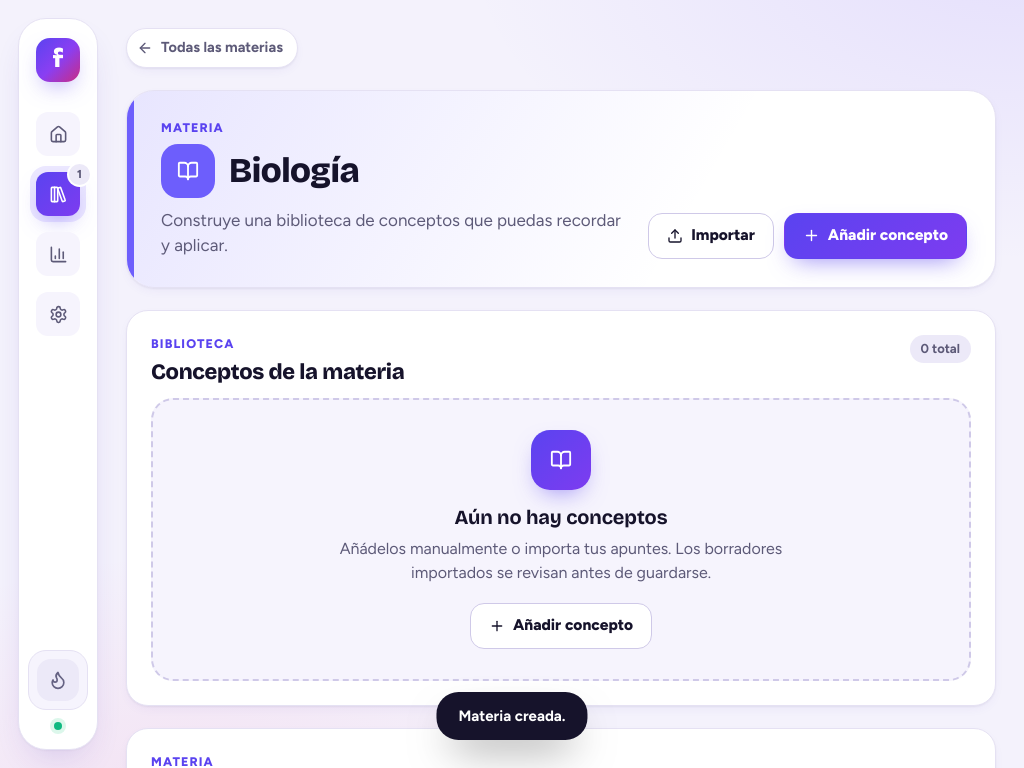
conceptos repetidos › al importar señala los borradores que ya existen y permite desmarcarlos de una vez
Earlier steps of the test are not shown.
Click the button "Importar" at (711, 236), box [648, 213, 774, 259]
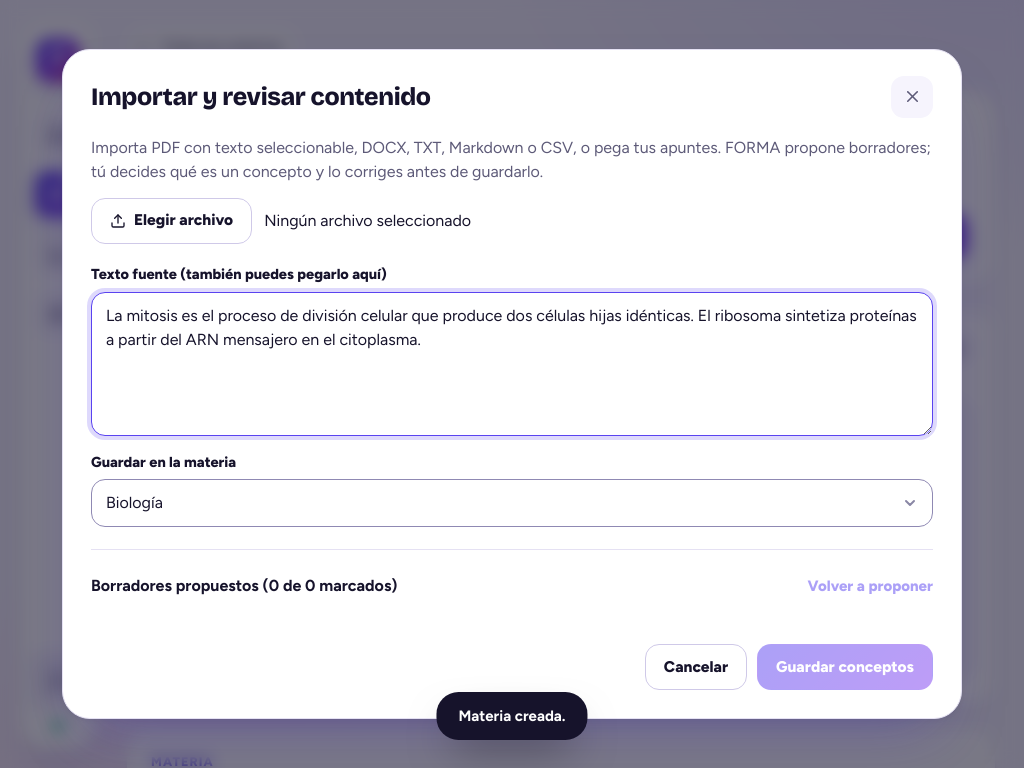
Replace the text in the text box with id "import-text" with "La mitosis es el proceso de división celular que produce dos células hijas idénticas. El ribosoma sintetiza proteínas a partir del ARN mensajero en el citoplasma." at (512, 364), box [91, 292, 933, 436]
(page scrolled)
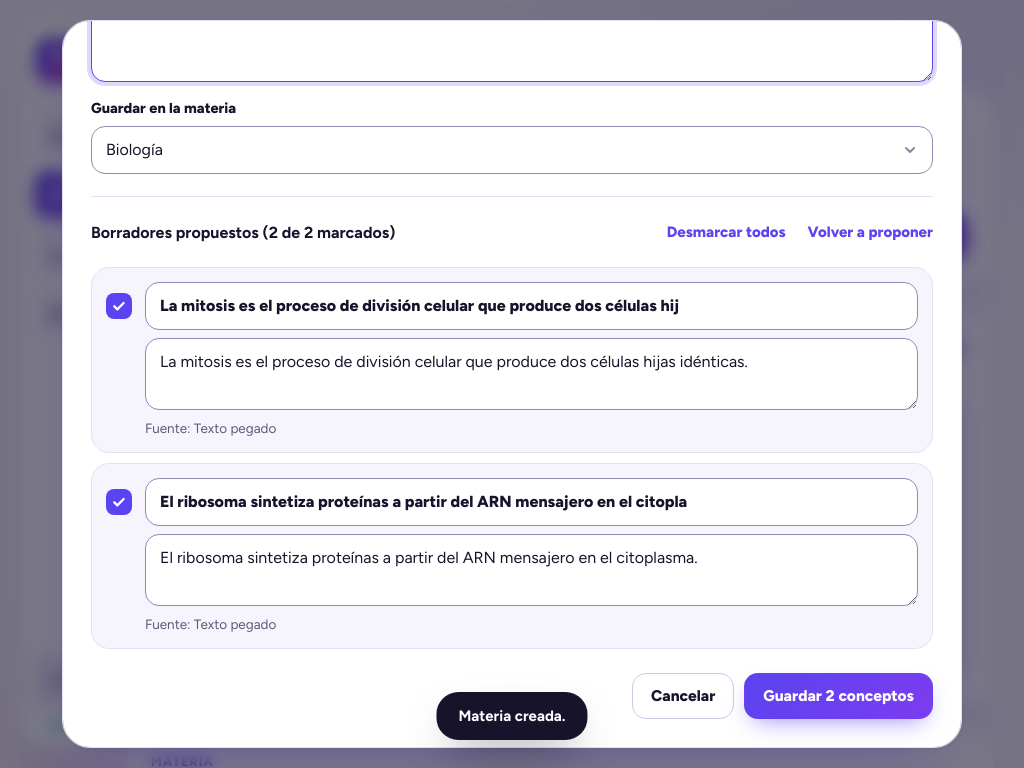
Click the button "Guardar 2 conceptos" at (839, 696), box [744, 673, 933, 719]
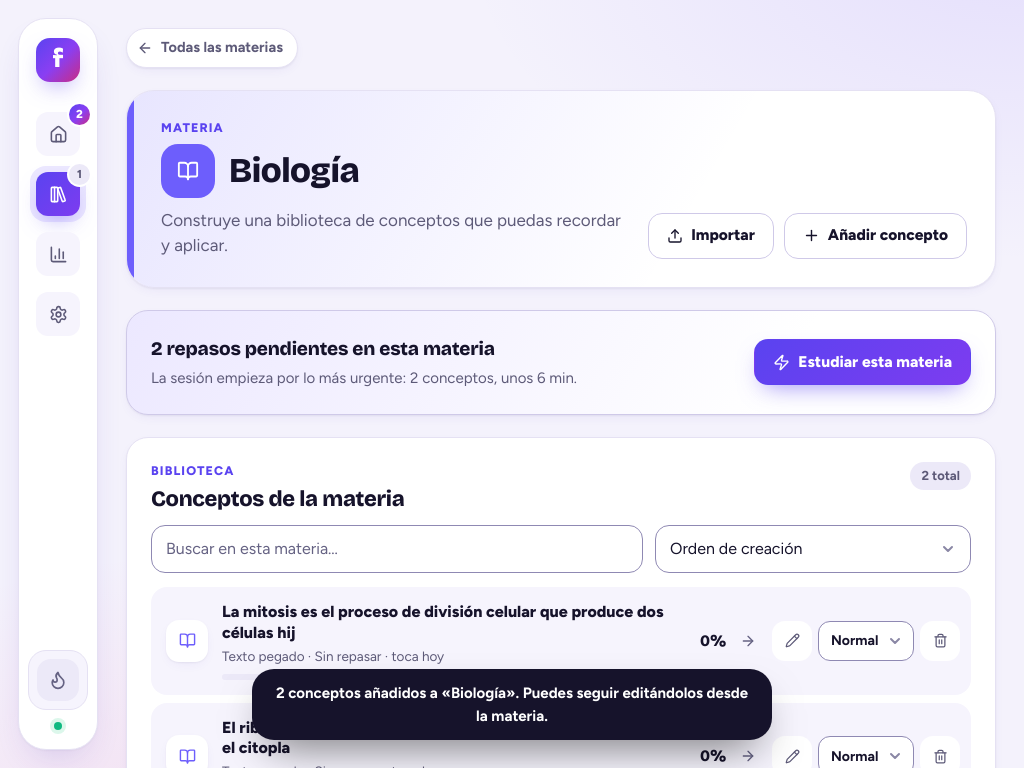
Click the button "Importar" at (711, 236), box [648, 213, 774, 259]
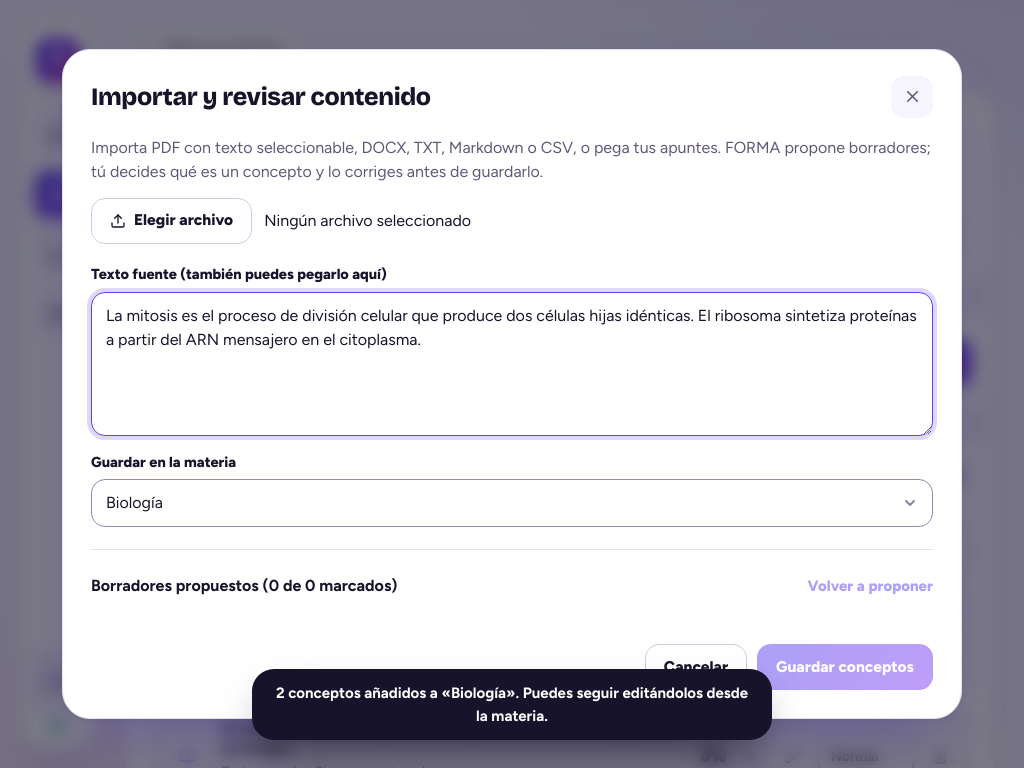
Replace the text in the text box with id "import-text" with "La mitosis es el proceso de división celular que produce dos células hijas idénticas. El ribosoma sintetiza proteínas a partir del ARN mensajero en el citoplasma." at (512, 364), box [91, 292, 933, 436]
(page scrolled)
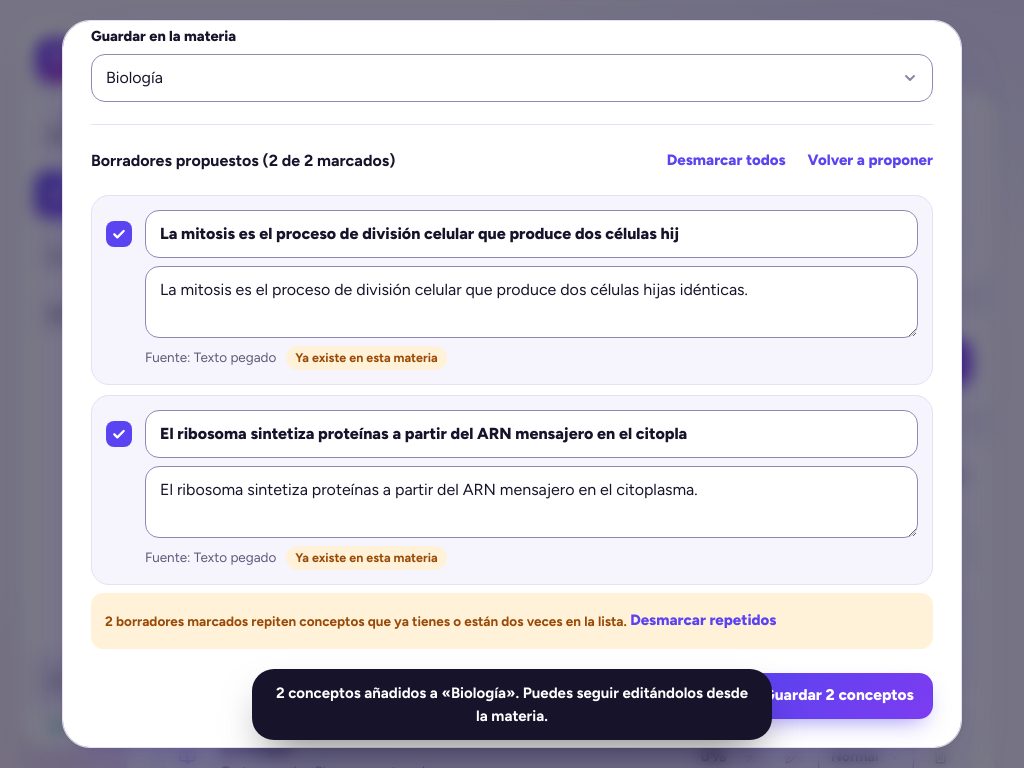
Now the text "2 borradores marcados repiten conceptos que ya tienes" is shown, box [105, 612, 627, 628]
Click the button "Desmarcar repetidos" at (703, 620), box [622, 602, 784, 638]
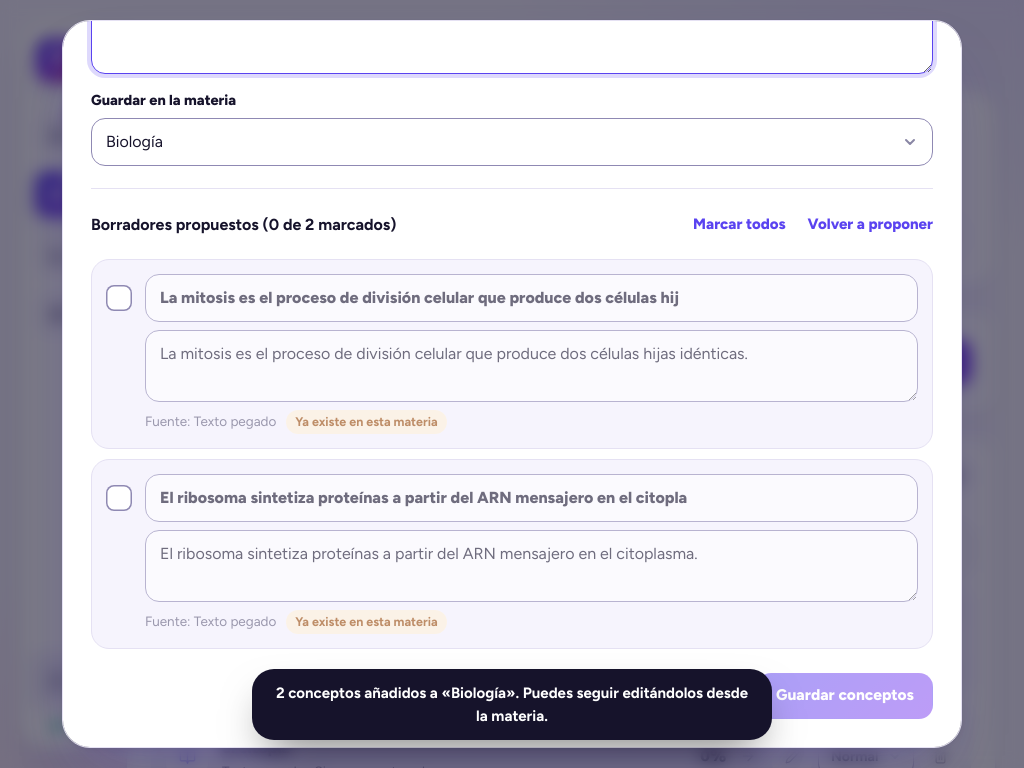
Now the number of elements with class "draft-off" is 2, box [91, 258, 933, 448]; [91, 458, 933, 648]
Now the message with class "duplicate-note" is gone
